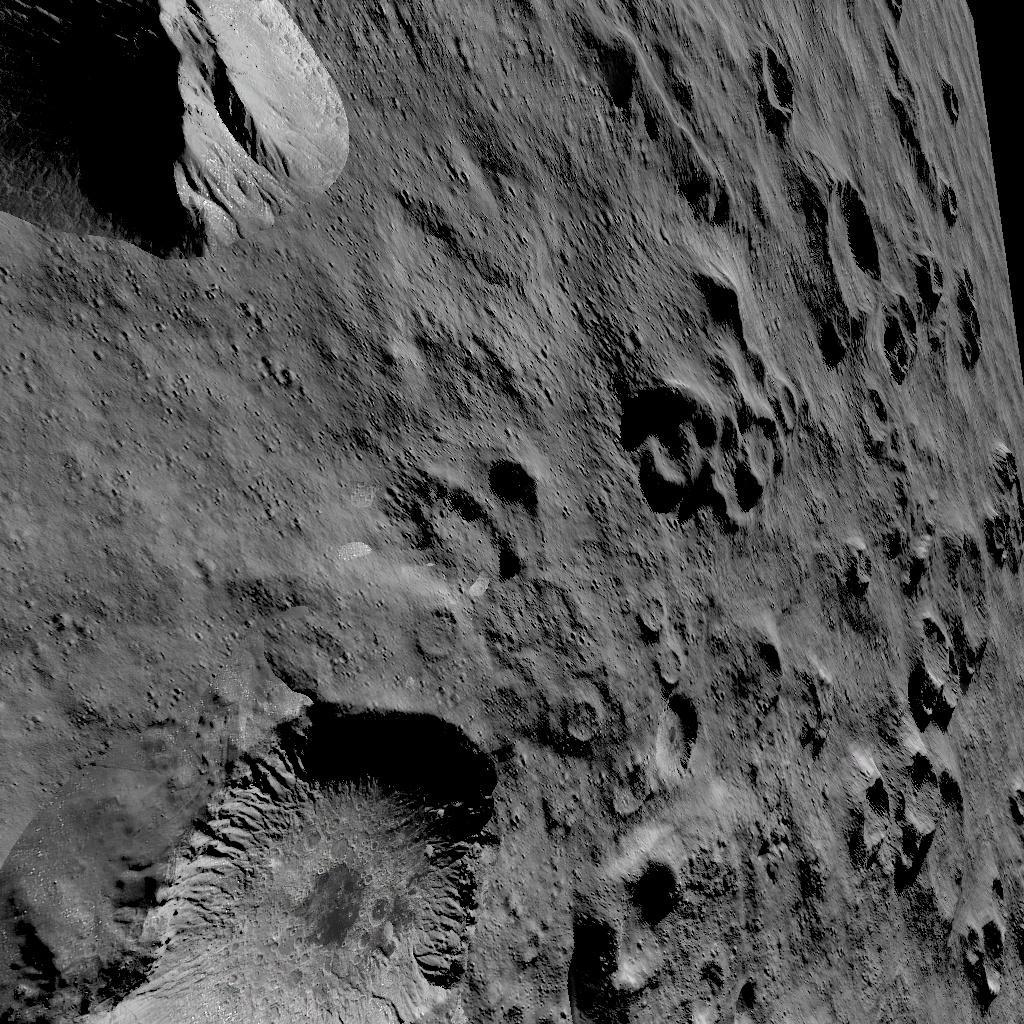Boulders: (3, 0, 352, 260)
Crater: (3, 700, 522, 1024), (563, 838, 770, 1024), (611, 356, 802, 537), (839, 736, 973, 918), (391, 460, 548, 578), (775, 166, 884, 320), (625, 596, 714, 774), (890, 244, 996, 382), (891, 612, 988, 726), (957, 438, 1024, 570), (737, 40, 807, 124), (947, 926, 1024, 1000), (731, 632, 784, 714), (401, 604, 464, 665), (829, 534, 877, 602), (549, 694, 602, 750), (849, 388, 892, 456), (929, 78, 964, 126), (925, 178, 959, 222), (875, 0, 909, 19)
Plan surface: (0, 268, 379, 688), (391, 2, 600, 452)
